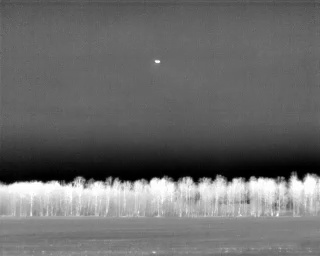DRONE: (151, 56, 163, 67)
